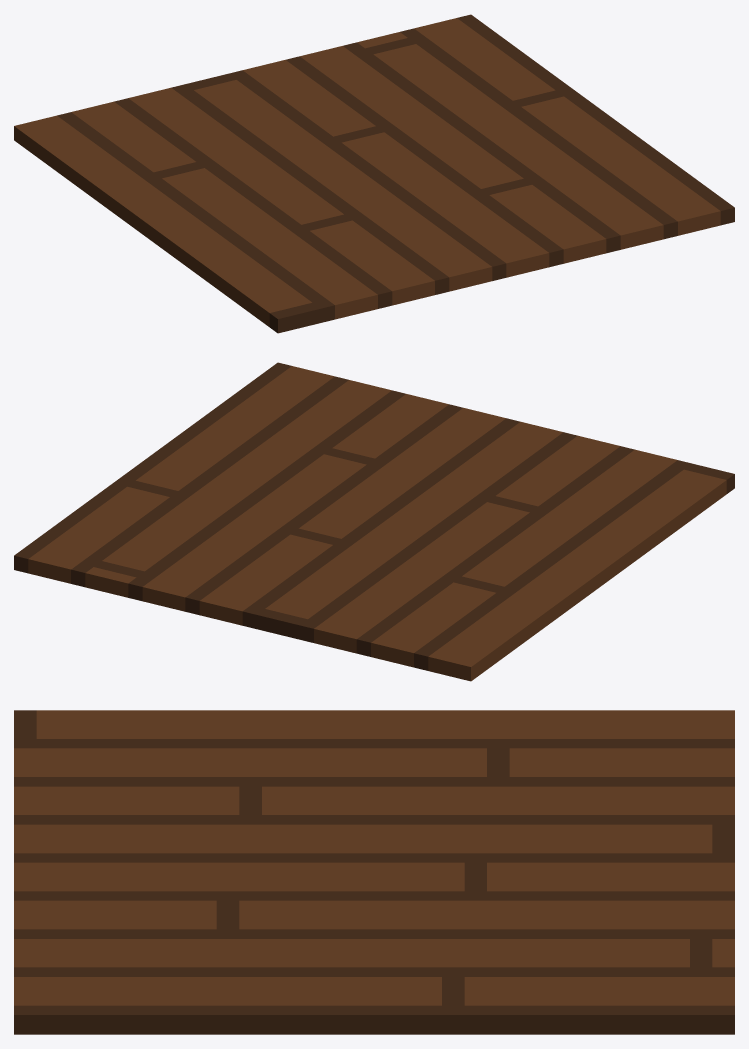
Rendered from prop_floor_boards_voxel.fbx.
The picture shows the model from 3 angles, top to bottom: view 1: azimuth 30°, elevation 25°; view 2: azimuth 150°, elevation 25°; view 3: azimuth 270°, elevation 25°; orthographic projection. The views are drawn at different scales.
Parts seen in each view (by area): view 1: prop_floor_boards_voxel; view 2: prop_floor_boards_voxel; view 3: prop_floor_boards_voxel.
Part boxes in pixels (bbox=[...]): prop_floor_boards_voxel: bbox=[14, 14, 734, 333]; prop_floor_boards_voxel: bbox=[14, 362, 734, 681]; prop_floor_boards_voxel: bbox=[14, 710, 734, 1034].
Size of the model in its own units: 2 by 0.06 by 2.
